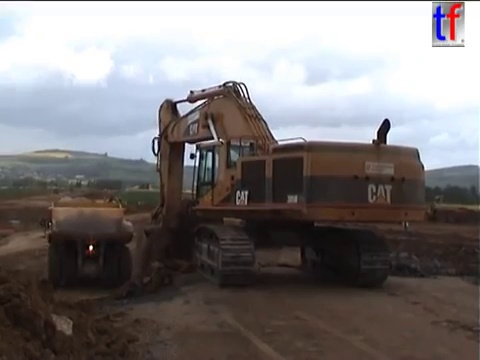excavator: (140, 78, 431, 290)
truck: (39, 193, 137, 290), (206, 185, 297, 261), (51, 186, 61, 197), (69, 186, 76, 193)
worker: (400, 210, 414, 233)
